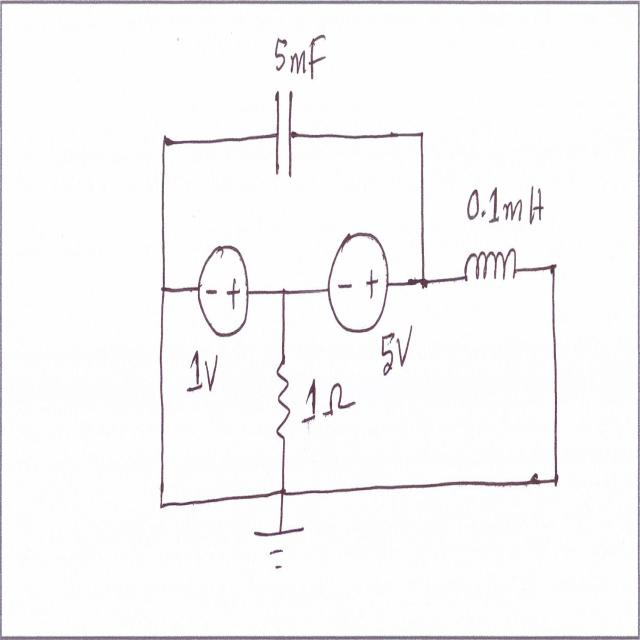capacitor: (271, 79, 298, 185)
ground: (251, 526, 311, 578)
inductor: (458, 239, 522, 303)
resistor: (272, 351, 292, 454)
voltage_source: (324, 208, 392, 336), (195, 237, 255, 338)
